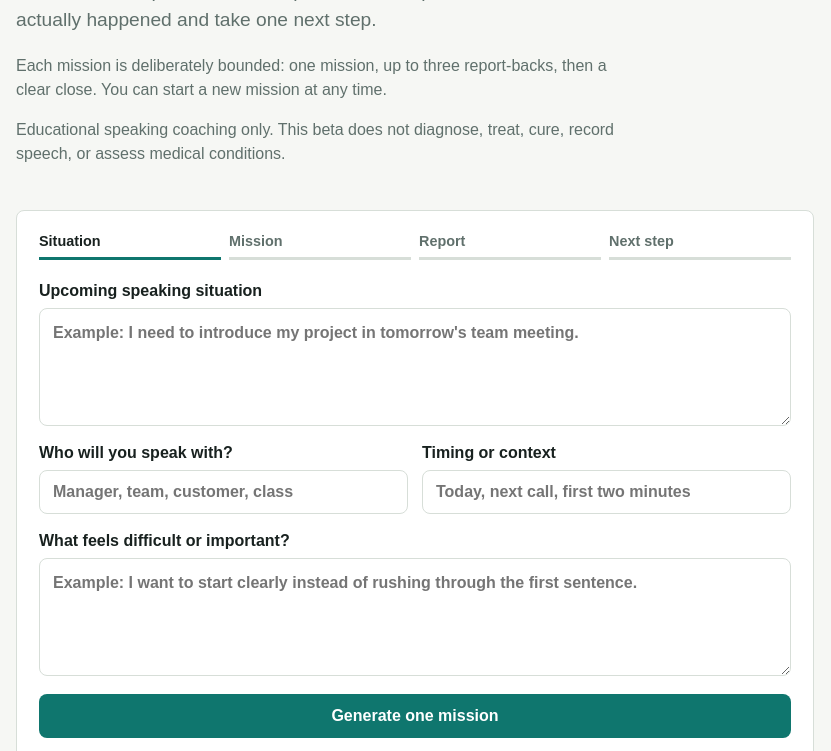
Test: Moment Coach UI › shows recoverable API errors
(page scrolled)
Type "I will ask for timeline clarity." into the text box labelled "Upcoming speaking situation". click: (415, 367)
box: top-left (39, 308), bottom-right (791, 426)
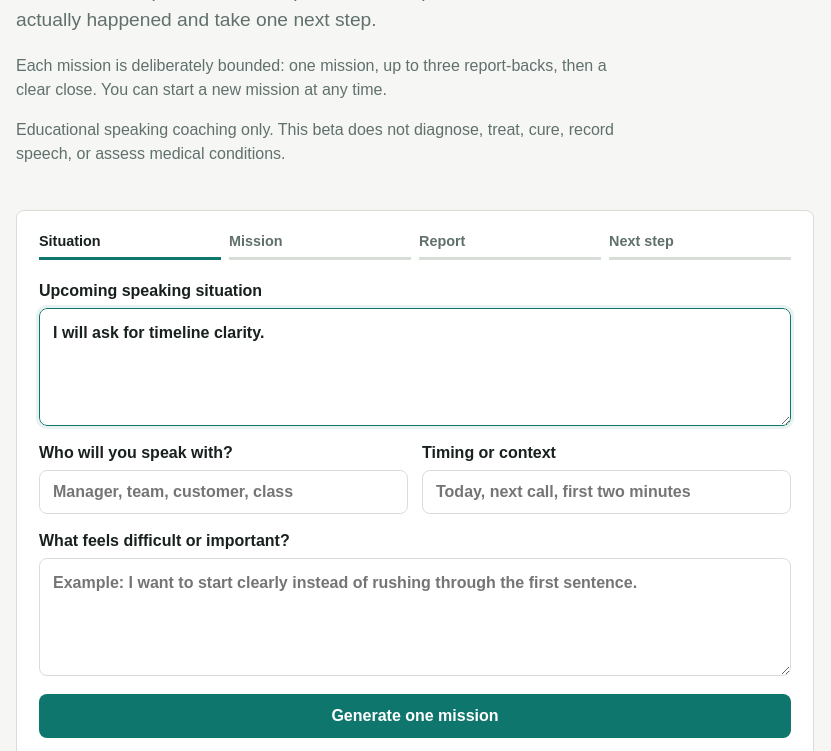
Type "My lead" into the field labelled "Who will you speak with?". click: (224, 492)
box: top-left (39, 470), bottom-right (408, 514)
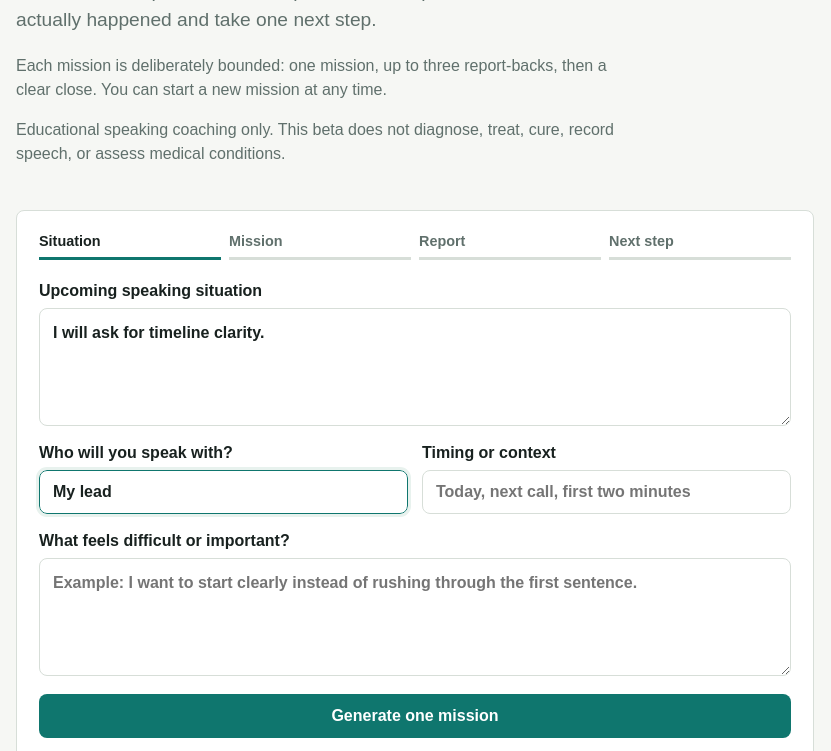
Type "I avoid asking directly." into the text box labelled "What feels difficult or important?". click: (415, 617)
box: top-left (39, 558), bottom-right (791, 676)
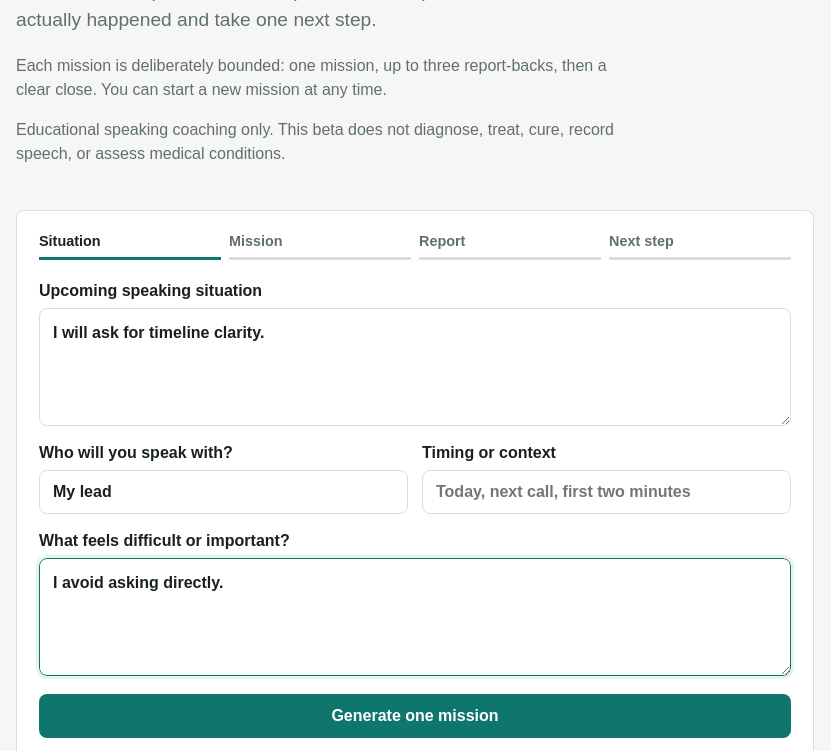
Click the button "Generate one mission". click: (415, 716)
box: top-left (39, 694), bottom-right (791, 738)
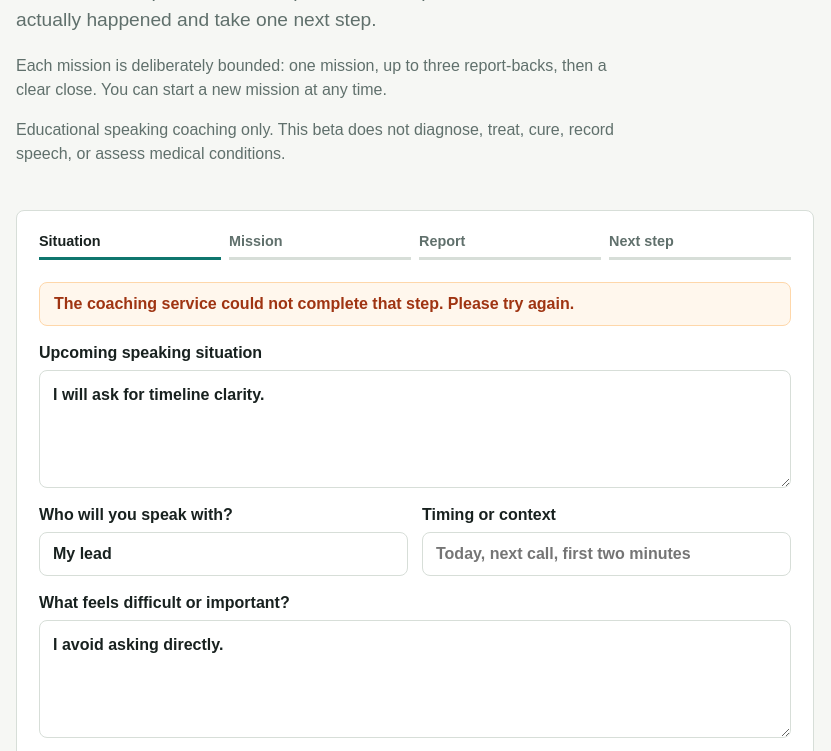
Result: the message shows "could not complete" at top-left (54, 295), bottom-right (574, 312)
